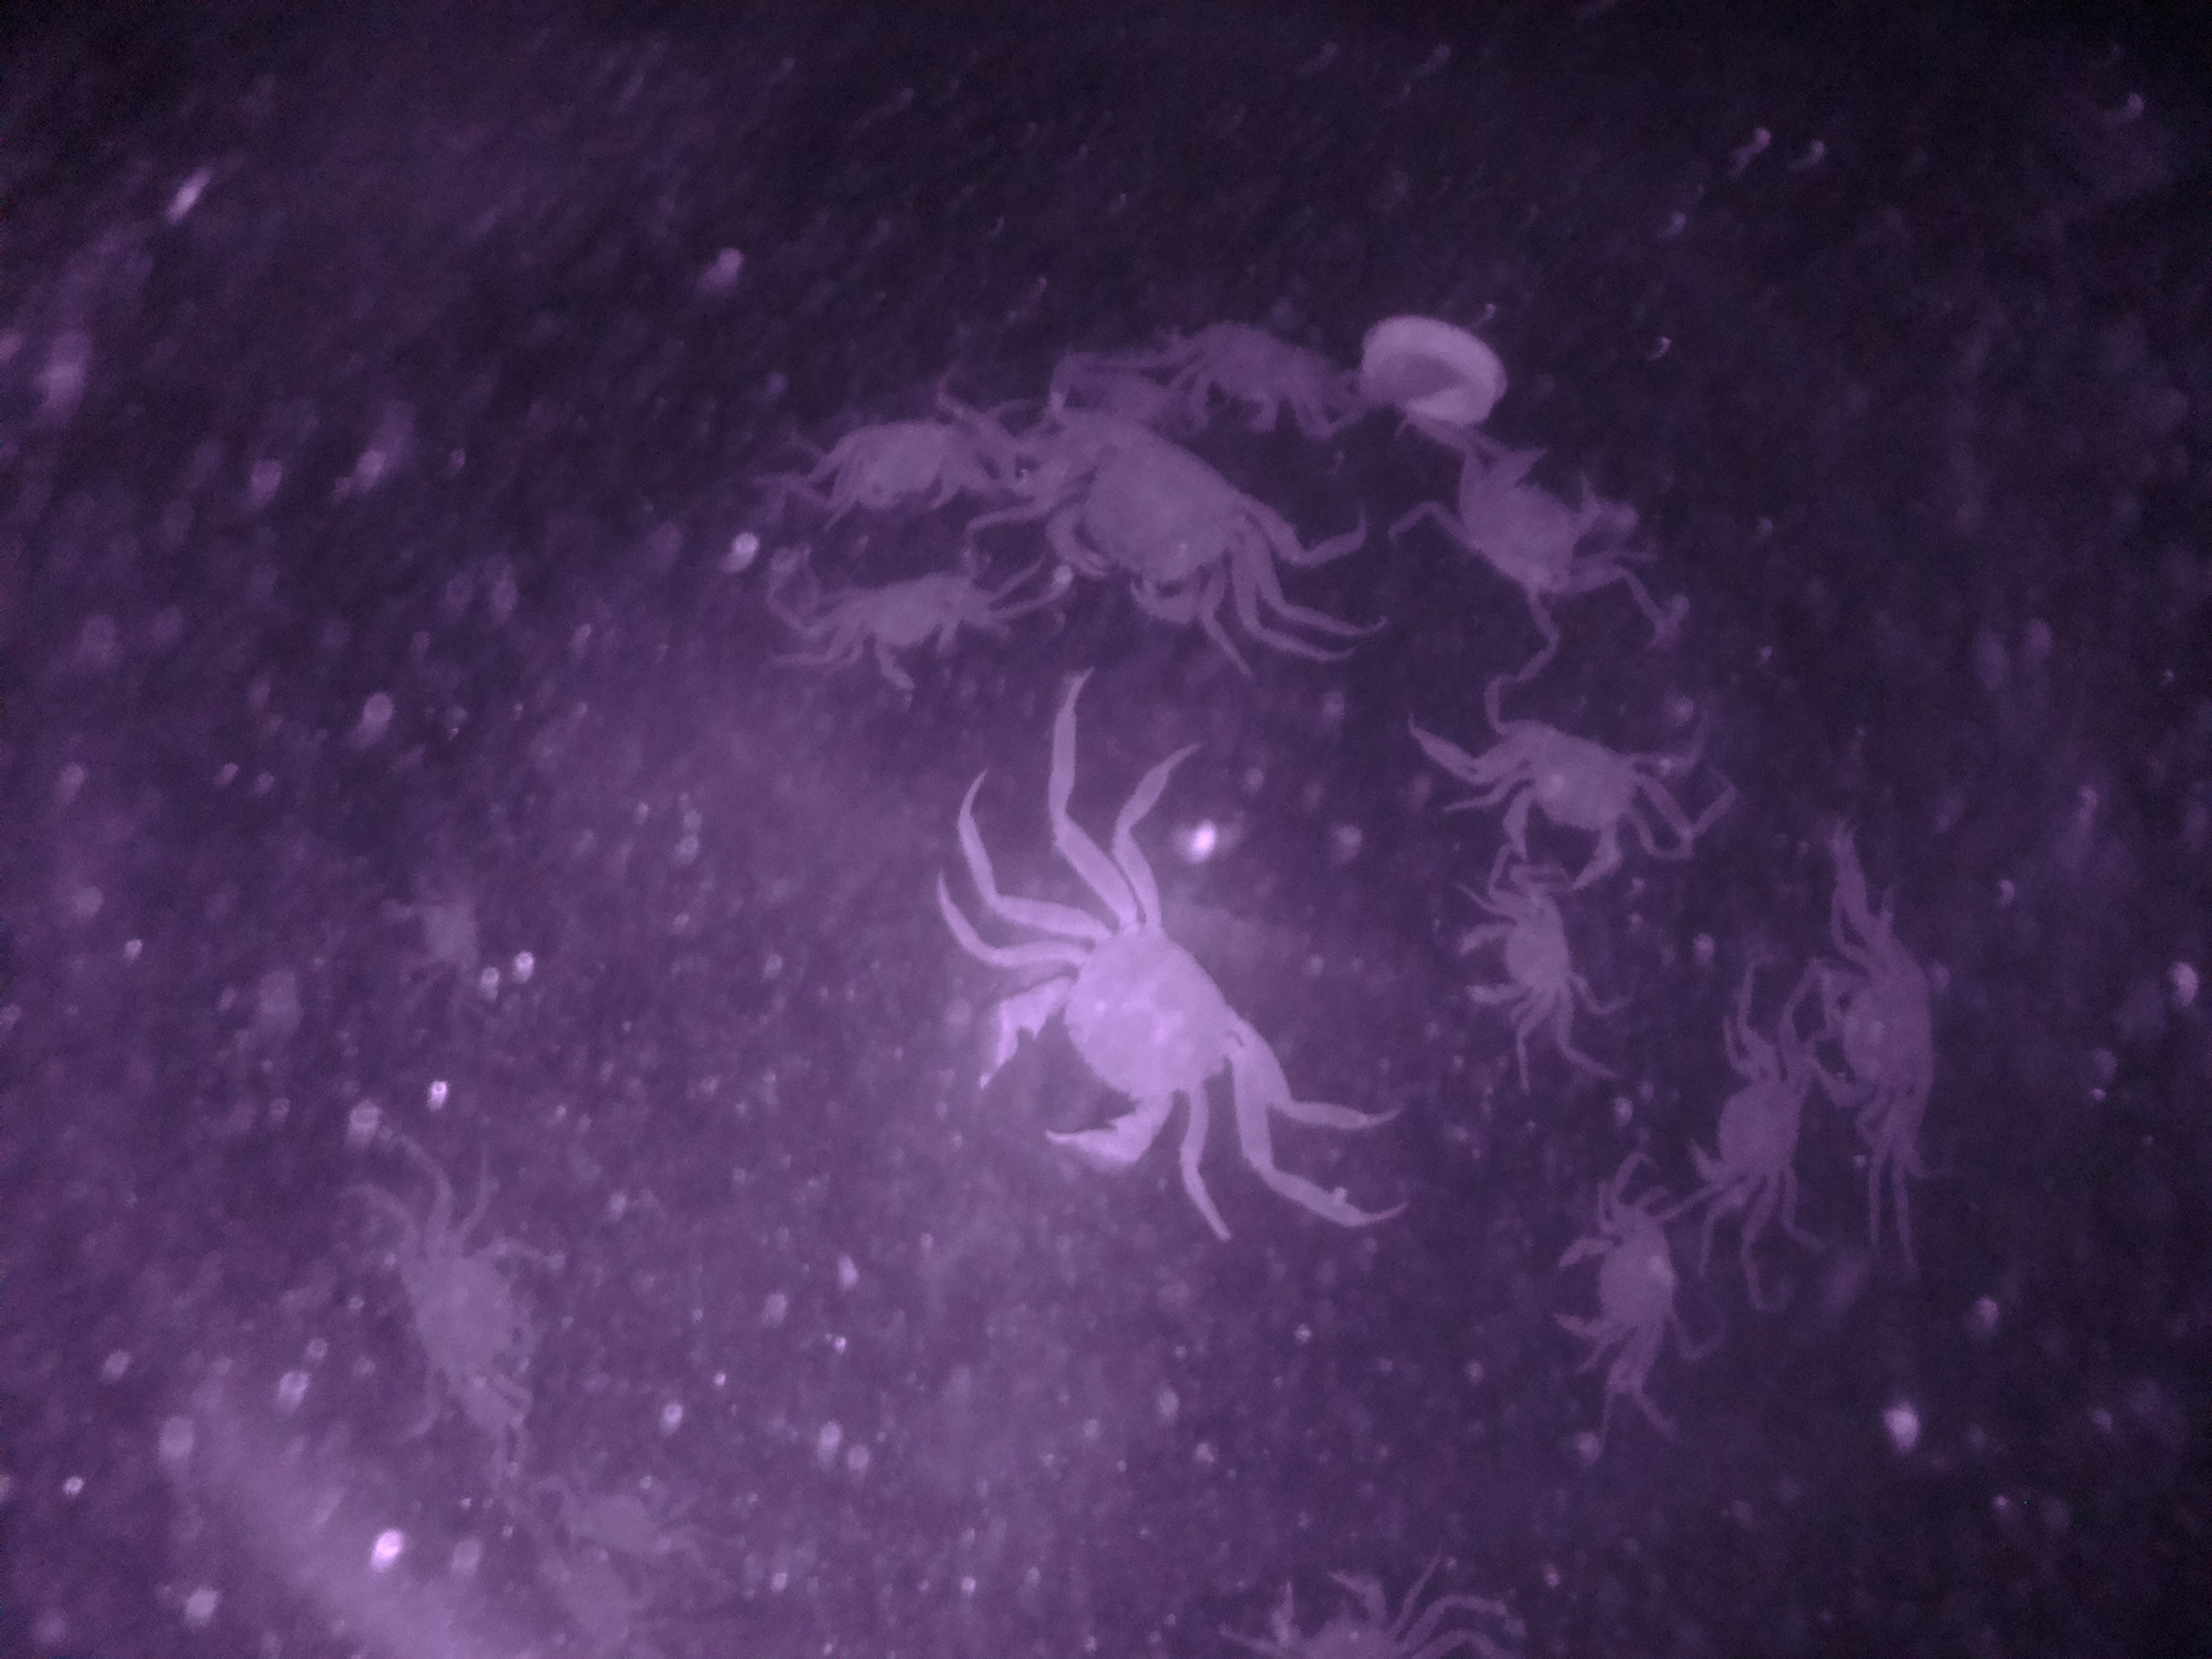Crab: (967, 894, 1277, 1182), (1026, 408, 1292, 636), (1437, 430, 1620, 612), (1489, 709, 1655, 889), (1686, 1026, 1824, 1222), (824, 556, 984, 706), (1536, 1216, 1679, 1364), (1456, 884, 1585, 1035)
